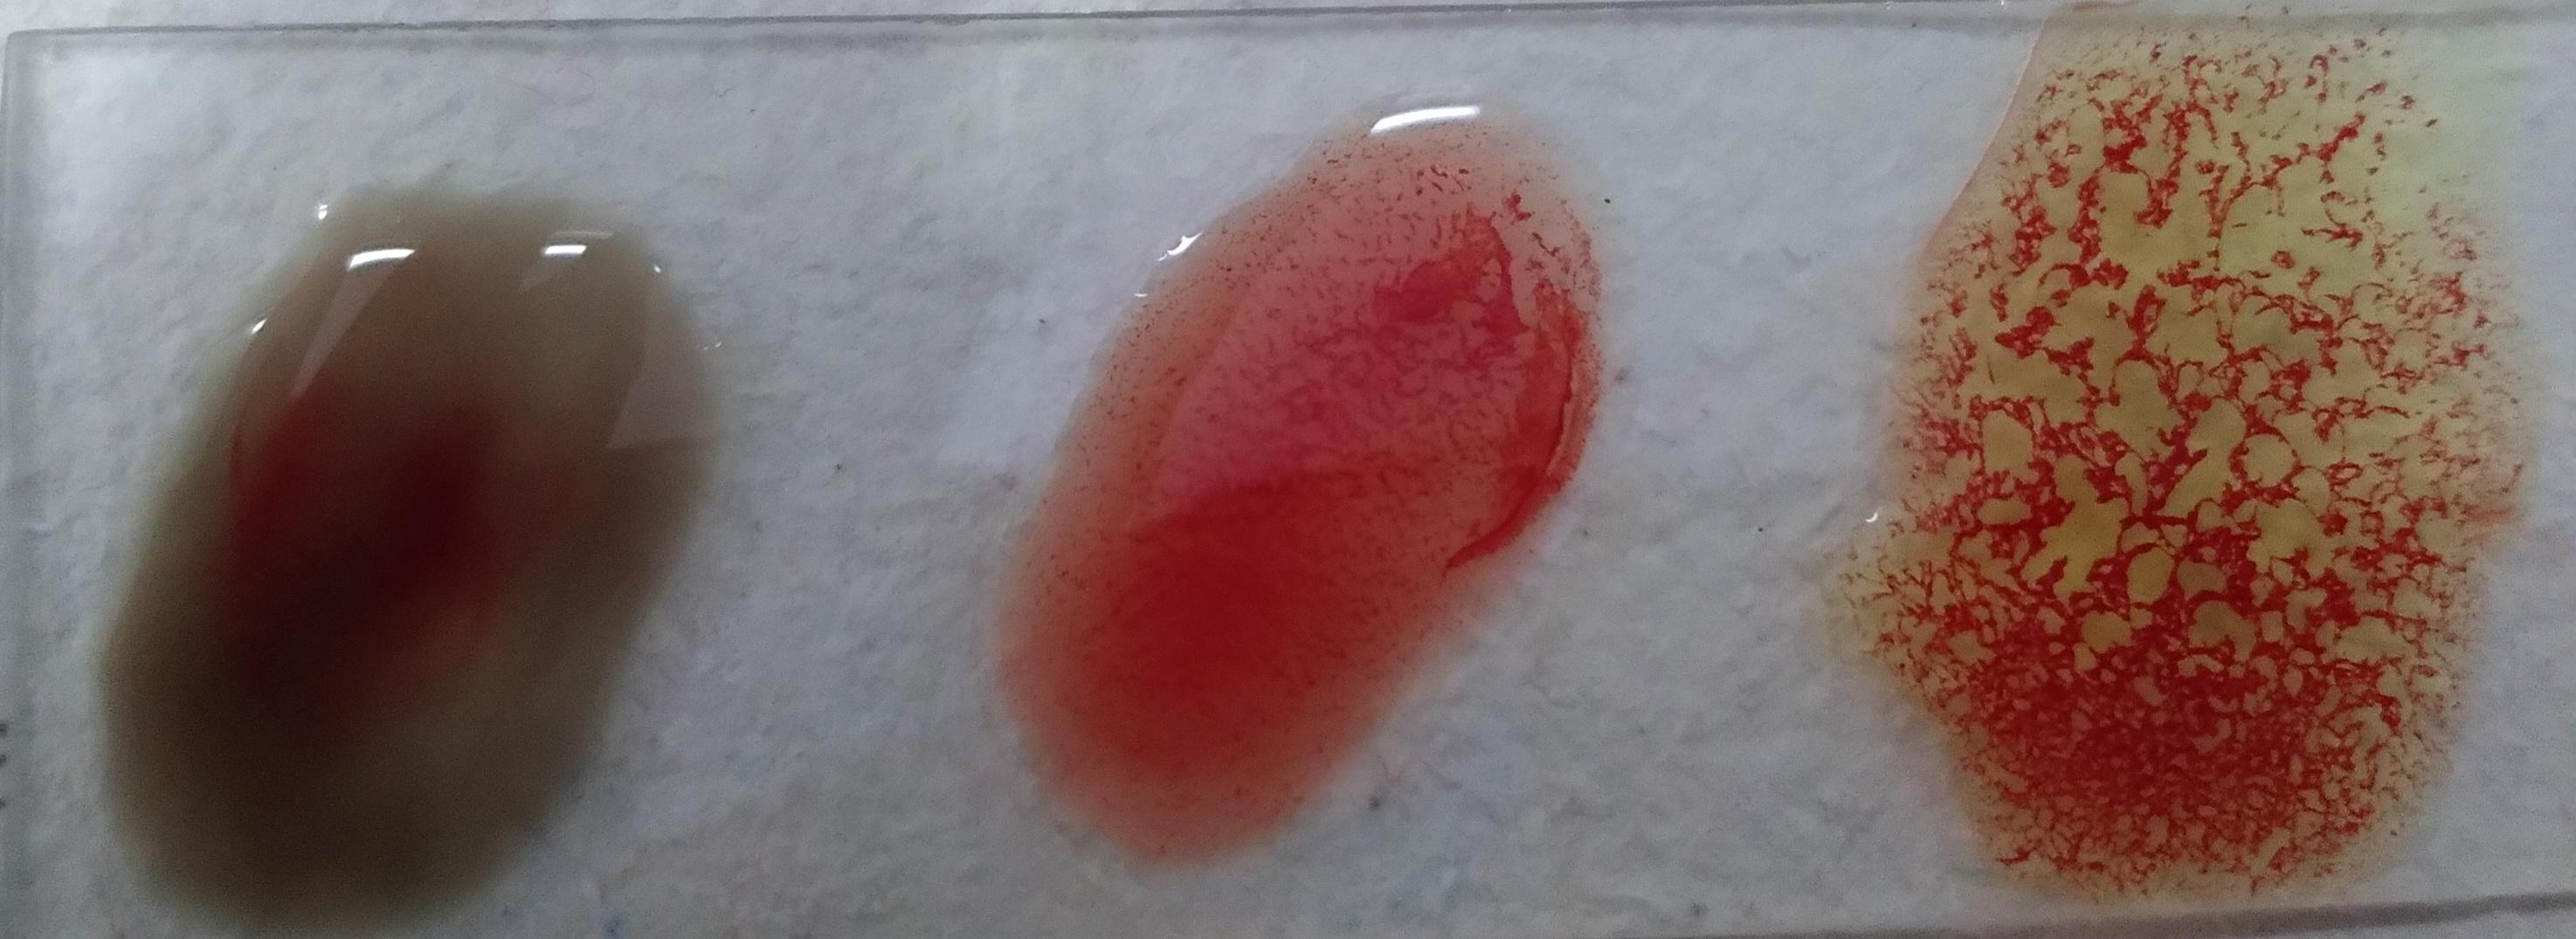B: (77, 51, 688, 906)
D: (1014, 44, 1544, 821)
